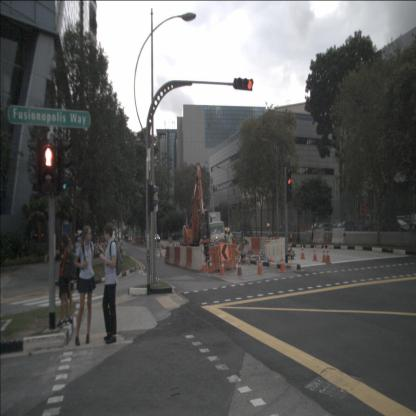human-pedestrian-adult: (98, 222, 122, 344), (74, 225, 96, 346)
movable_object-barrier: (208, 243, 237, 272), (264, 239, 286, 266), (190, 247, 204, 272), (332, 227, 346, 246), (312, 227, 324, 245), (179, 246, 187, 268), (260, 236, 268, 257), (185, 246, 192, 270), (242, 237, 251, 254), (252, 236, 260, 255), (173, 246, 180, 265), (168, 247, 174, 266), (165, 245, 170, 264)
movable_object-trafficcone: (256, 254, 264, 275), (324, 245, 332, 264), (236, 256, 243, 276), (219, 256, 226, 275), (280, 252, 286, 272), (208, 256, 213, 274), (300, 244, 306, 259), (321, 246, 326, 263), (313, 244, 318, 261), (203, 255, 208, 272), (325, 234, 329, 245), (165, 250, 167, 262), (160, 249, 162, 258), (159, 244, 161, 252)
vehicle-car: (381, 218, 412, 241), (332, 220, 356, 241), (316, 223, 333, 235), (328, 220, 340, 232), (152, 234, 161, 243)
vehicle-truck: (189, 212, 226, 253)
